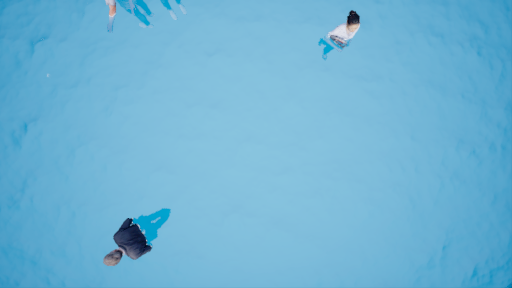person: (103, 211, 175, 268), (314, 9, 370, 64)
